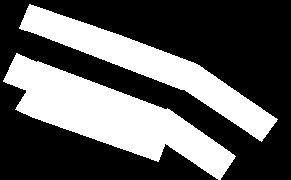parkingspot: (19, 4, 277, 141), (15, 88, 165, 161), (27, 61, 167, 137), (151, 108, 235, 180), (3, 53, 39, 91)
